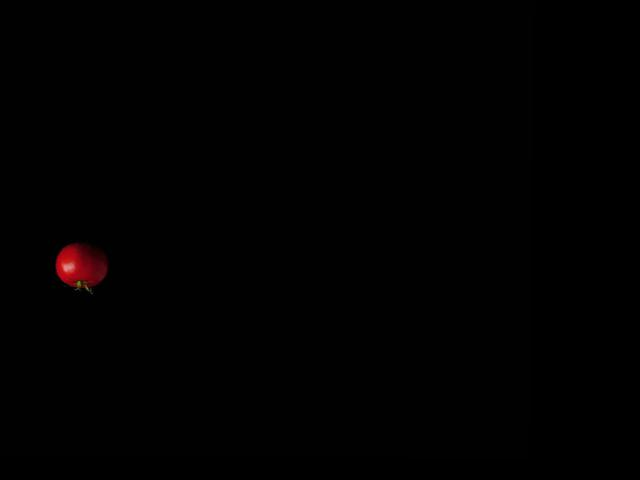tomato: (56, 243, 108, 287)
